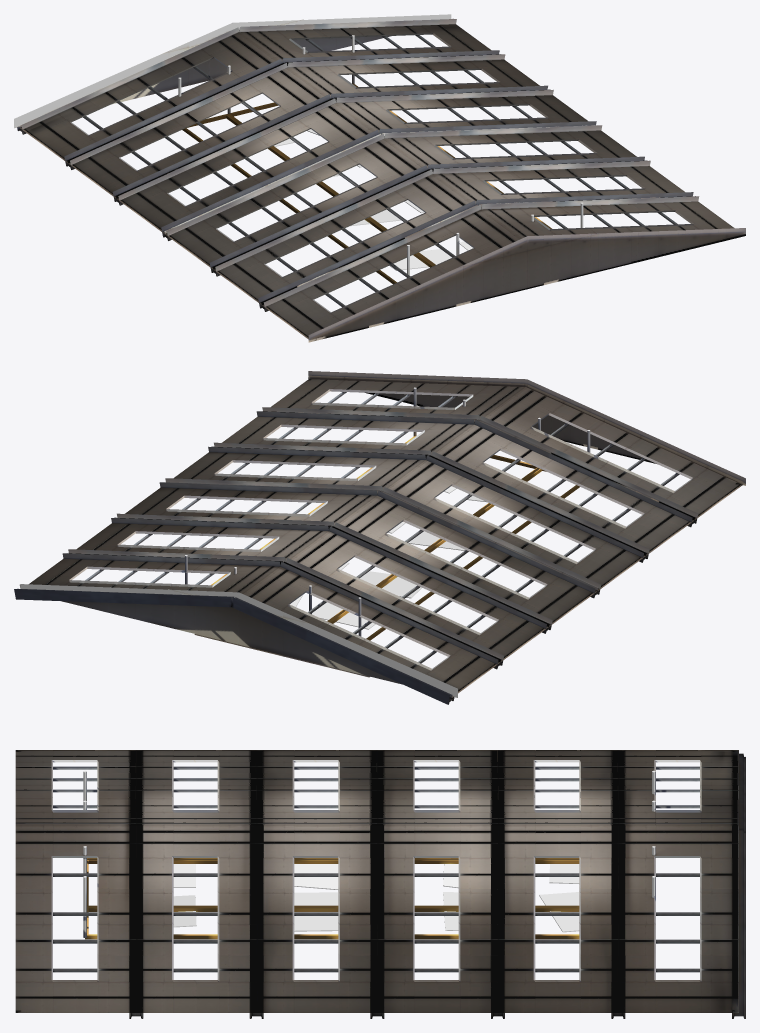
Rendered from Hangar_p2.glb.
3 views of the same model, one above another, from view 1: azimuth 30°, elevation 25°; view 2: azimuth 150°, elevation 25°; view 3: azimuth 270°, elevation 25° (orthographic). The views are drawn at different scales.
Parts seen in each view (by area): view 1: Roof_Baked; view 2: Roof_Baked; view 3: Roof_Baked.
Boxes of the visible parts, x1,y1,x2,y2 form: Roof_Baked: [14, 14, 745, 342]; Roof_Baked: [14, 371, 745, 704]; Roof_Baked: [15, 750, 745, 1018].
Size of the model in its own units: 49.19 by 7.28 by 56.87.
Materials: 1 (1 with a texture image).
